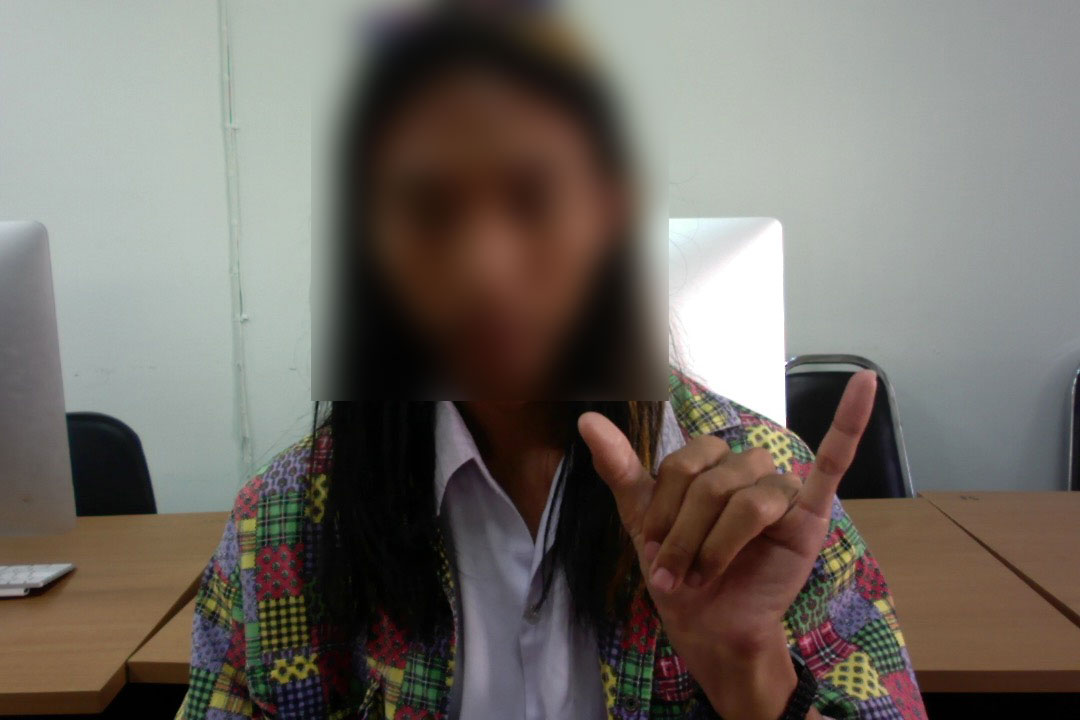yor: (568, 364, 892, 647)
